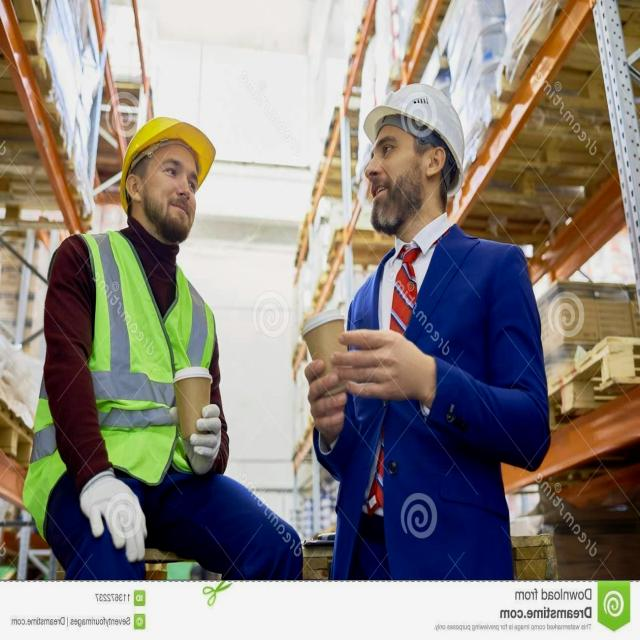face_nomask: (359, 114, 440, 236), (132, 145, 203, 248)
hand_glove: (80, 474, 149, 563), (188, 405, 224, 467)
hand_noglove: (331, 322, 442, 398), (302, 356, 342, 434)
head_helmet: (362, 84, 466, 185), (119, 113, 219, 211)
person: (321, 78, 542, 570), (32, 116, 240, 580)
vest: (51, 239, 228, 491)
